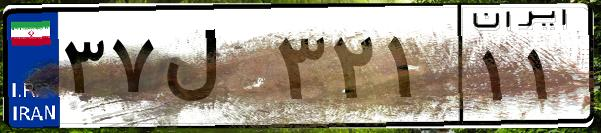1: (385, 28, 445, 110), (475, 38, 525, 113), (525, 38, 570, 115)
2: (330, 28, 385, 110)
3: (270, 28, 330, 110), (57, 26, 110, 100)
7: (110, 28, 158, 98)
ل: (158, 20, 270, 120)
